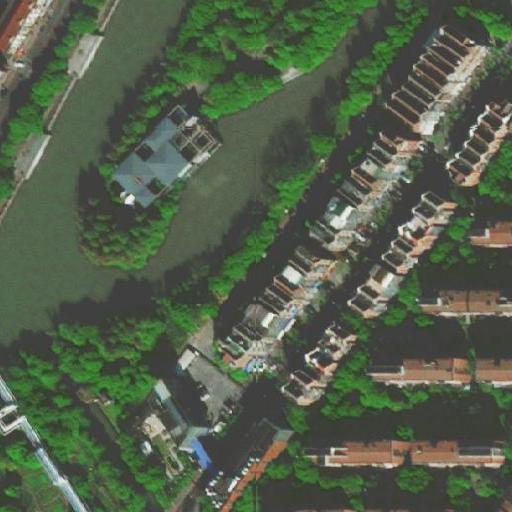building: (229, 239, 336, 369), (322, 130, 420, 238), (114, 109, 213, 214), (386, 22, 480, 124), (201, 413, 295, 512), (349, 218, 438, 321), (145, 375, 211, 451), (449, 110, 509, 189), (299, 317, 361, 385), (270, 363, 330, 418), (305, 443, 429, 468), (372, 357, 475, 386), (0, 1, 46, 60), (419, 287, 512, 314), (57, 19, 101, 74), (410, 189, 457, 238), (432, 445, 504, 469), (0, 363, 21, 420), (274, 499, 353, 512), (477, 221, 512, 248), (479, 355, 512, 383), (362, 498, 419, 512), (489, 478, 512, 512)
